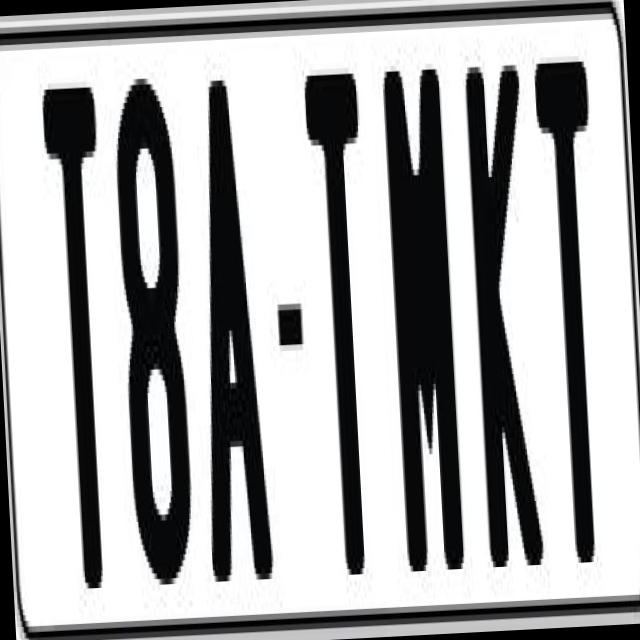8: (108, 78, 194, 598)
A: (187, 73, 276, 605)
K: (464, 59, 546, 574)
M: (378, 62, 468, 566)
T: (303, 56, 392, 594), (530, 61, 616, 565), (36, 70, 118, 590)
